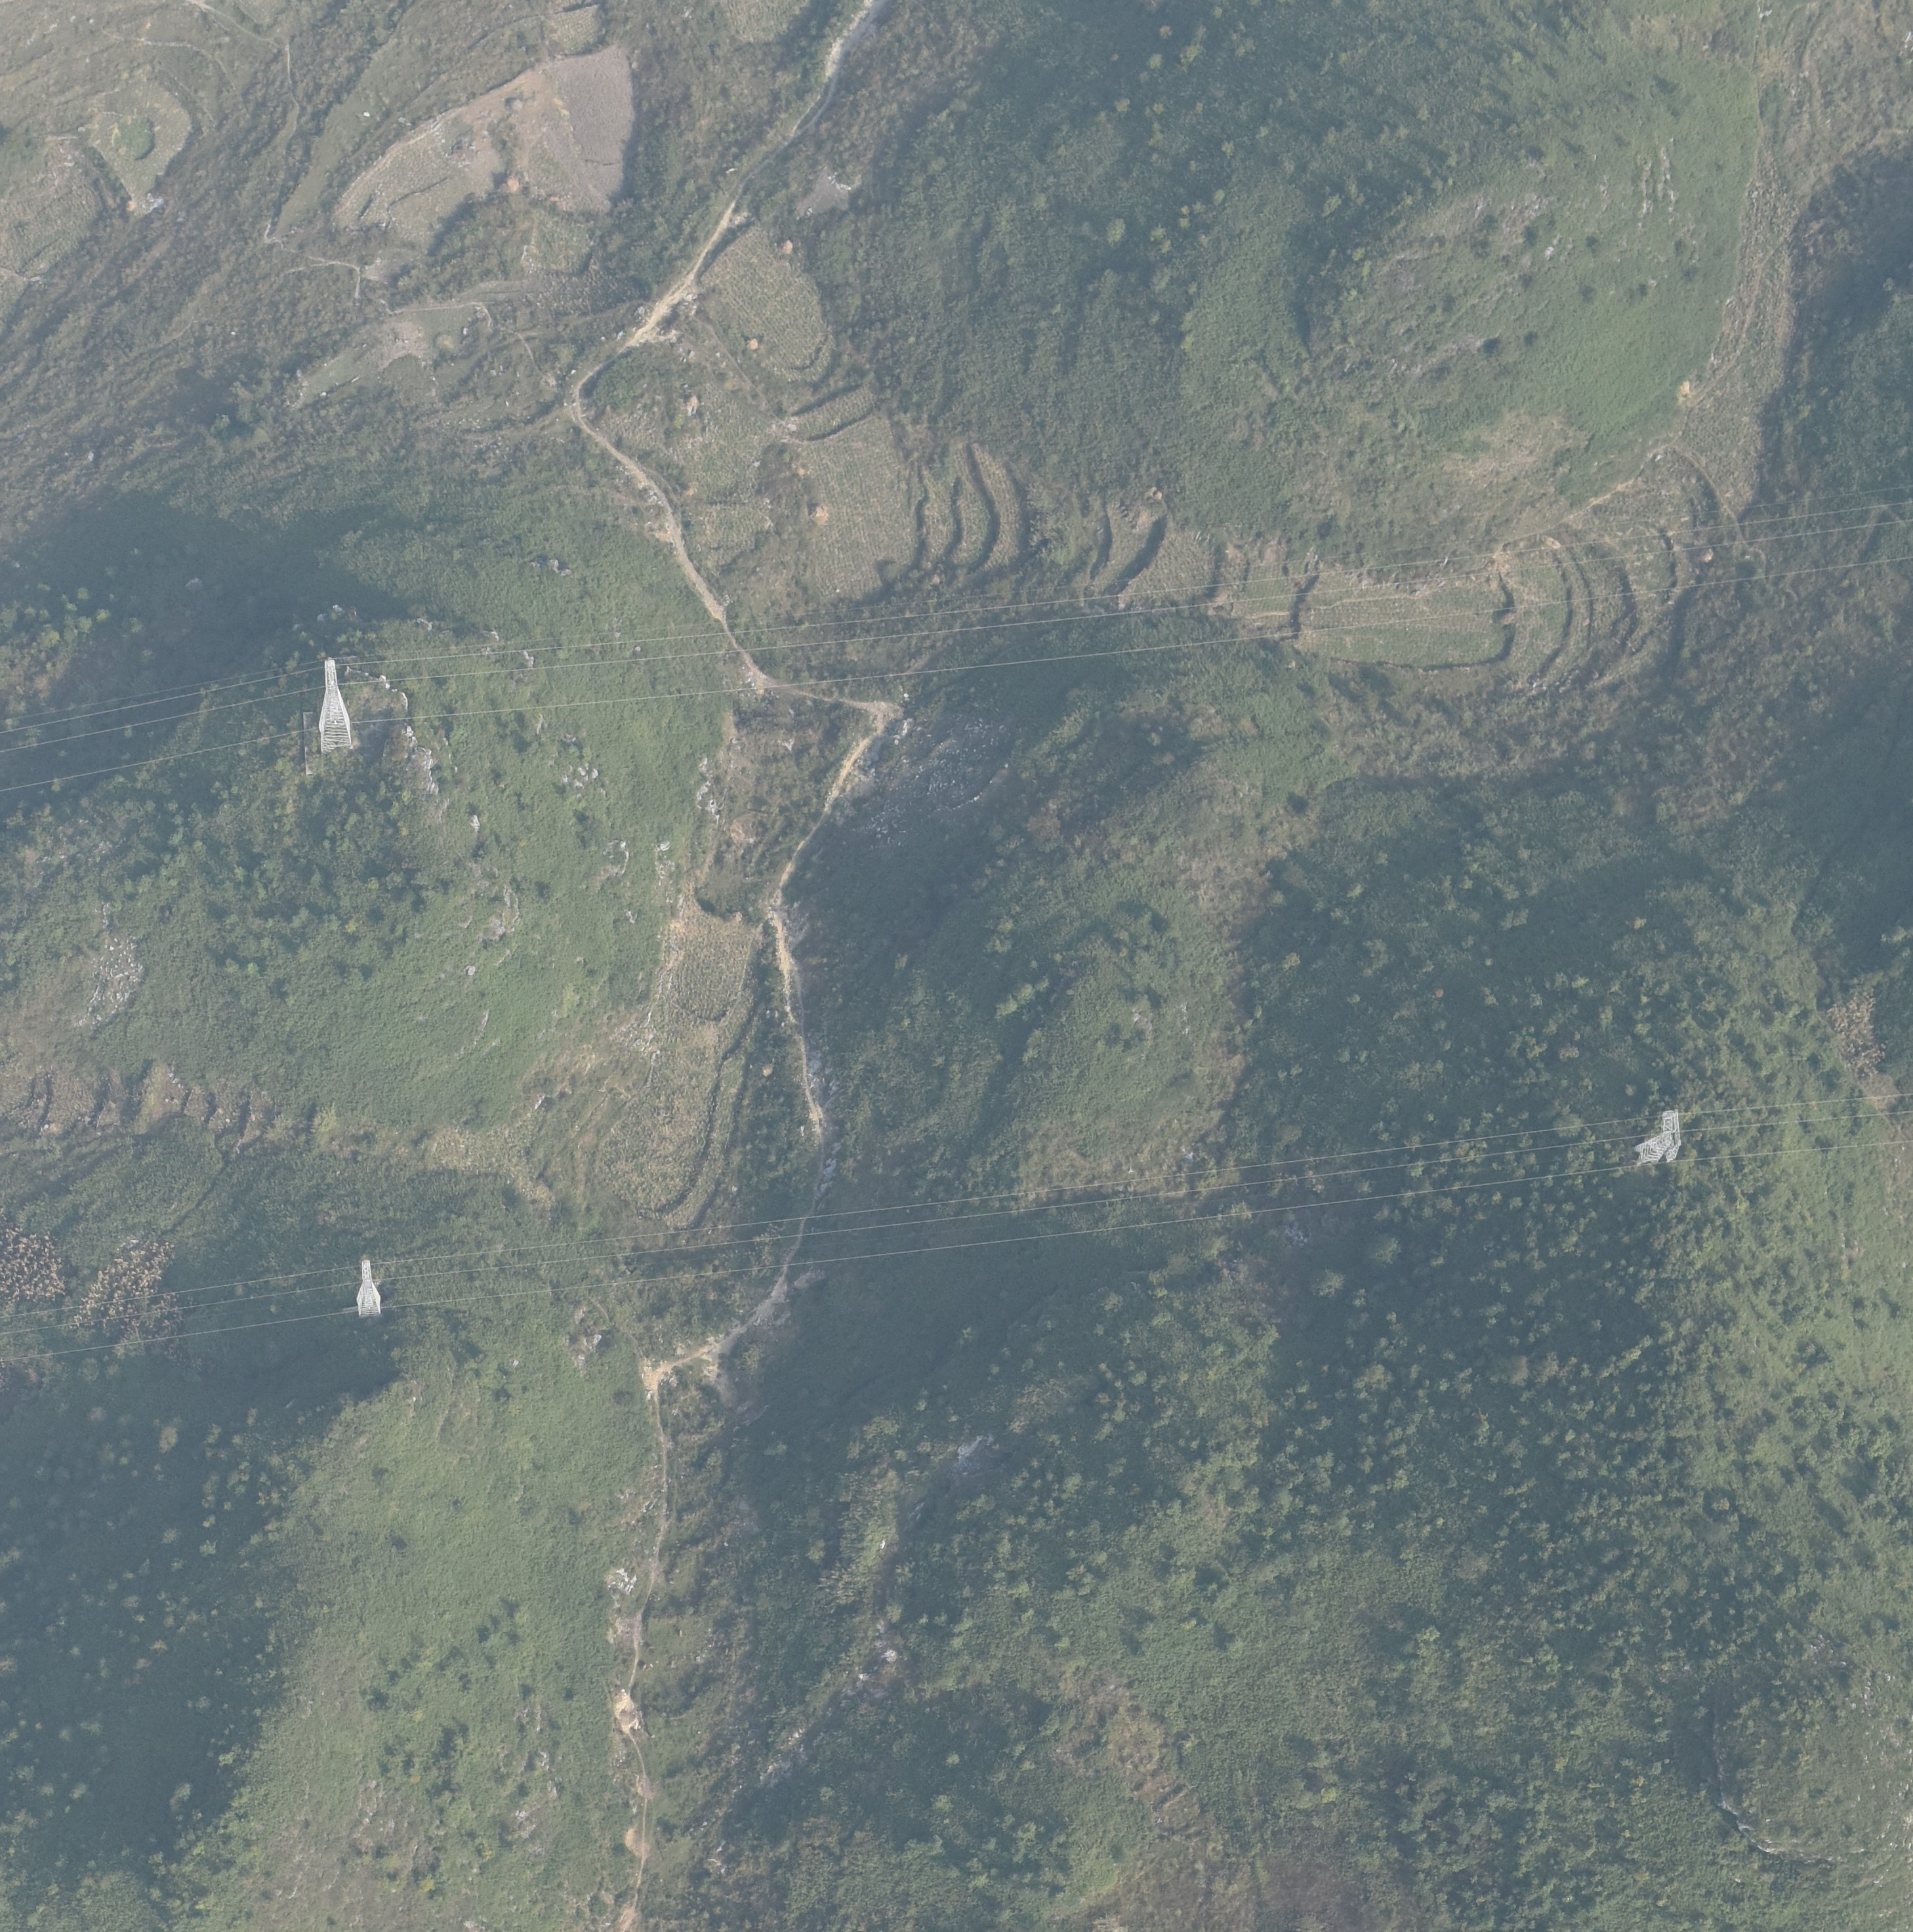cable-tower: (317, 656, 352, 753), (1632, 1108, 1683, 1163), (356, 1258, 382, 1317)
